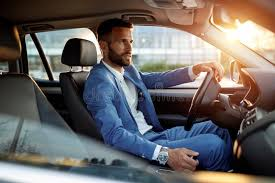Driving: (83, 17, 272, 172)
Person: (84, 18, 168, 128)
